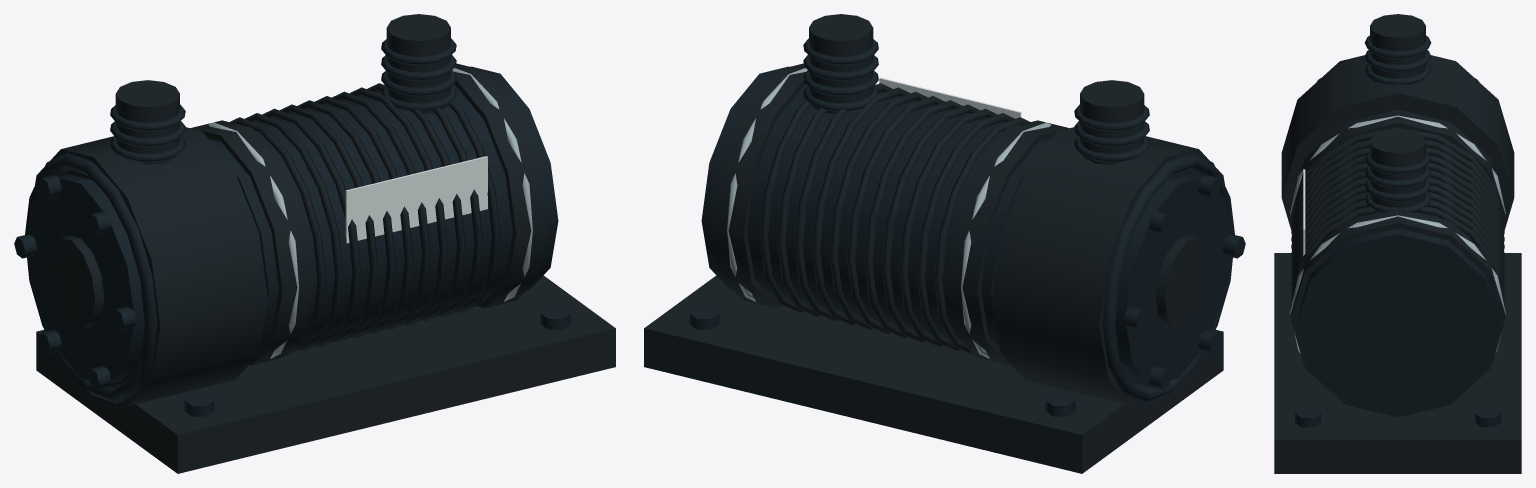
Rendered from pump-r385-low.glb.
3 views of the same model, side by side, from view 1: azimuth 30°, elevation 25°; view 2: azimuth 150°, elevation 25°; view 3: azimuth 270°, elevation 25° (orthographic). The views are drawn at different scales.
Visible parts, largest first — view 1: matte-polymer, black-anodised, silkscreen, stainless-steel; view 2: matte-polymer, black-anodised, stainless-steel, silkscreen; view 3: matte-polymer, black-anodised, stainless-steel.
Boxes of the visible parts, x1,y1,x2,y2 form: matte-polymer: (35,14,615,473); black-anodised: (14,38,570,416); silkscreen: (345,156,487,243); stainless-steel: (208,68,532,358); matte-polymer: (644,14,1224,473); black-anodised: (689,38,1245,416); stainless-steel: (727,68,1051,358); silkscreen: (879,77,1021,118); matte-polymer: (1274,14,1521,473); black-anodised: (1295,35,1500,427); stainless-steel: (1290,115,1505,353).
Bounding box in the file's own units: 1.28 × 0.82 × 0.66.
